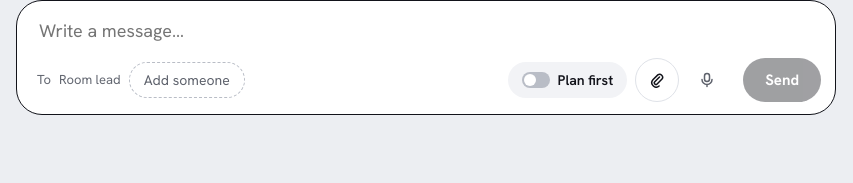
Test case: /model <name> sets the agent model with the existing PUT
Type "/model gpt-6" into the dropdown named "Message general" at point(429, 30), box [37,15,821,46]
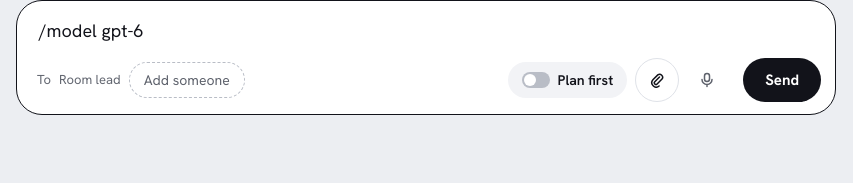
Press Enter in the dropdown named "Message general", box [37,15,821,46]
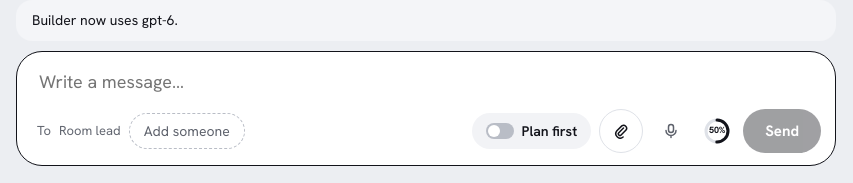
Expected: the text "Builder now uses gpt-6." is shown, [32,11,178,29]
